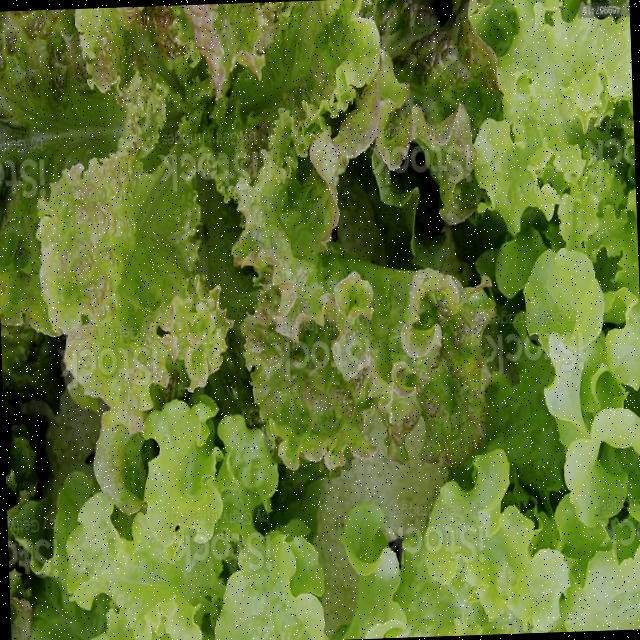Bacterial: (262, 264, 487, 466), (41, 160, 212, 390)
